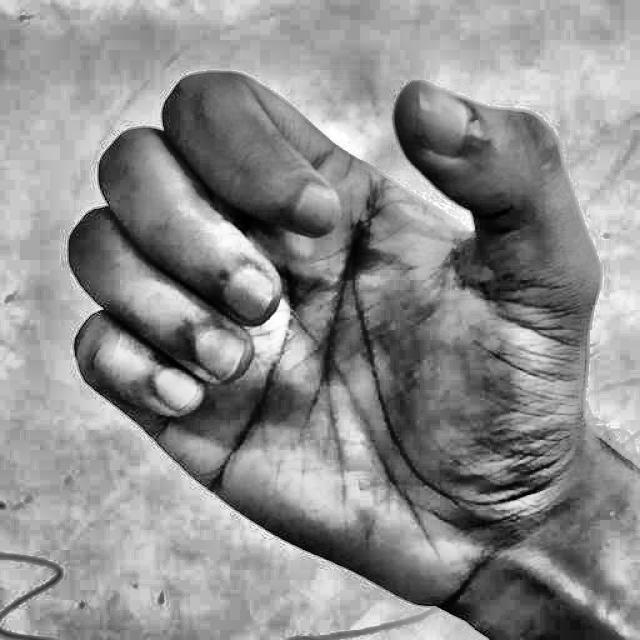Dho: (48, 40, 620, 618)
